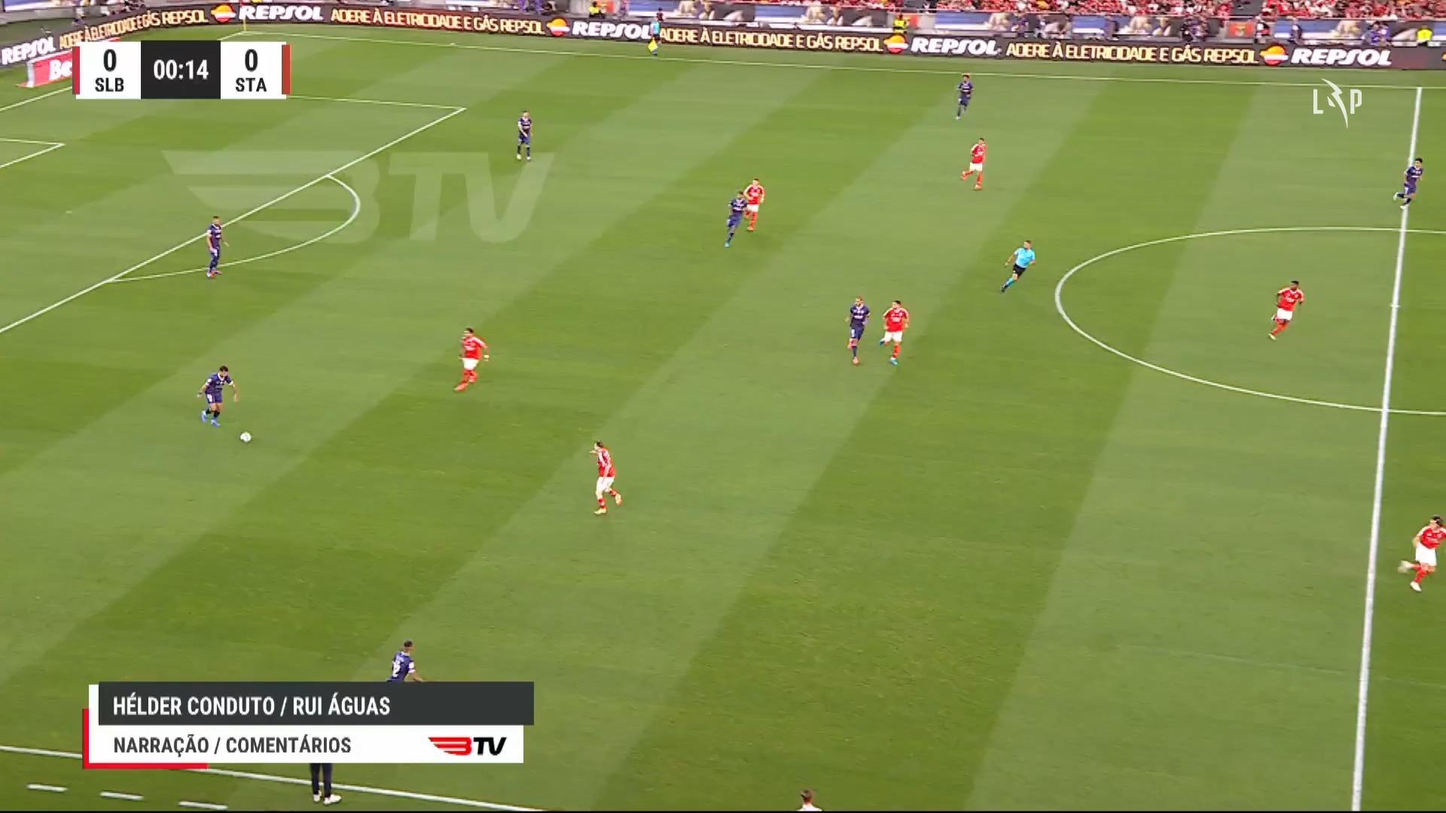ball: (239, 431, 251, 443)
player: (1397, 513, 1444, 592), (196, 364, 238, 427), (588, 440, 623, 515), (452, 327, 490, 392), (1267, 279, 1304, 340), (879, 299, 910, 365), (844, 295, 871, 364), (386, 640, 424, 683), (1393, 157, 1424, 208), (205, 215, 229, 278), (960, 136, 987, 190), (723, 190, 747, 248), (743, 177, 765, 232), (514, 109, 533, 162), (954, 72, 974, 120)
referee: (999, 239, 1036, 293), (648, 12, 664, 58)
